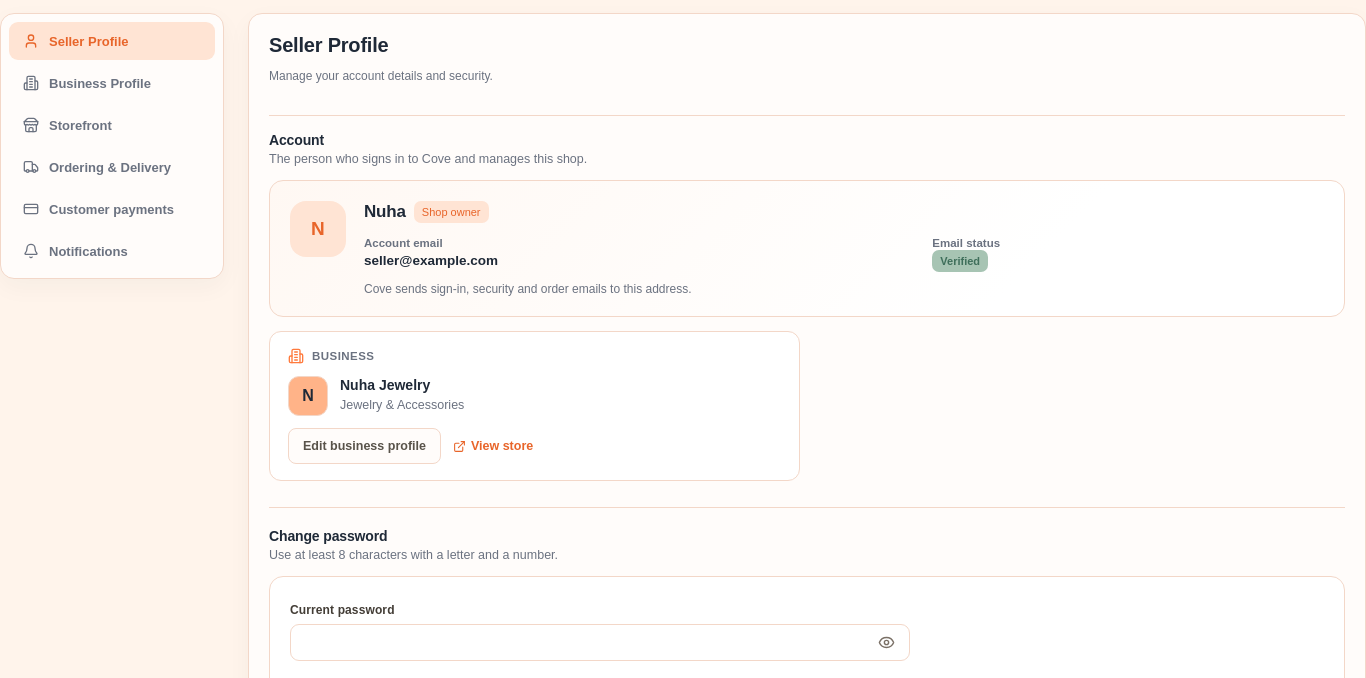
Test: Seller Profile change password › shows the server error when the current password is wrong
This screenshot has width=1366, height=678.
Type "Wrong1111" into the password field named "currentPassword".
click(600, 642); type("Wrong1111")  # box x1=290 y1=624 x2=910 y2=661
(page scrolled)
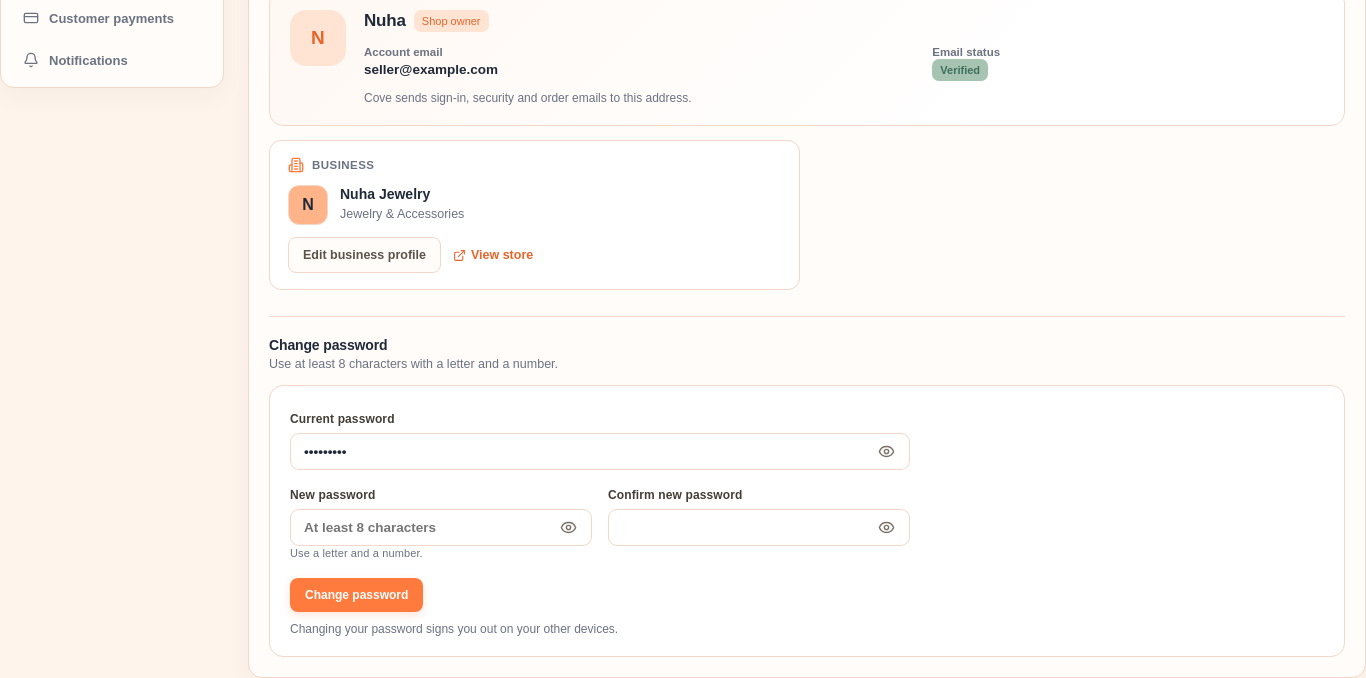
Type "NewPass22" into the password field named "newPassword".
click(441, 528); type("NewPass22")  # box x1=290 y1=509 x2=592 y2=546
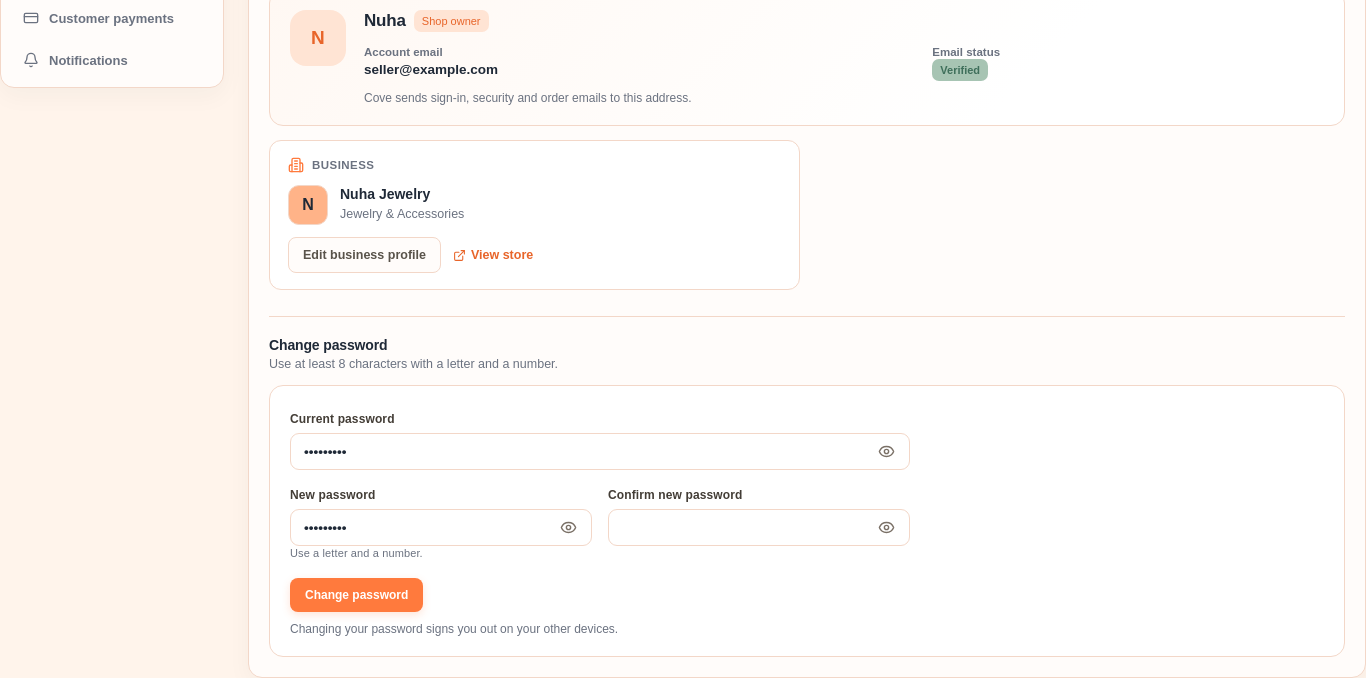
Type "NewPass22" into the password field labelled "Confirm new password".
click(759, 528); type("NewPass22")  # box x1=608 y1=509 x2=910 y2=546
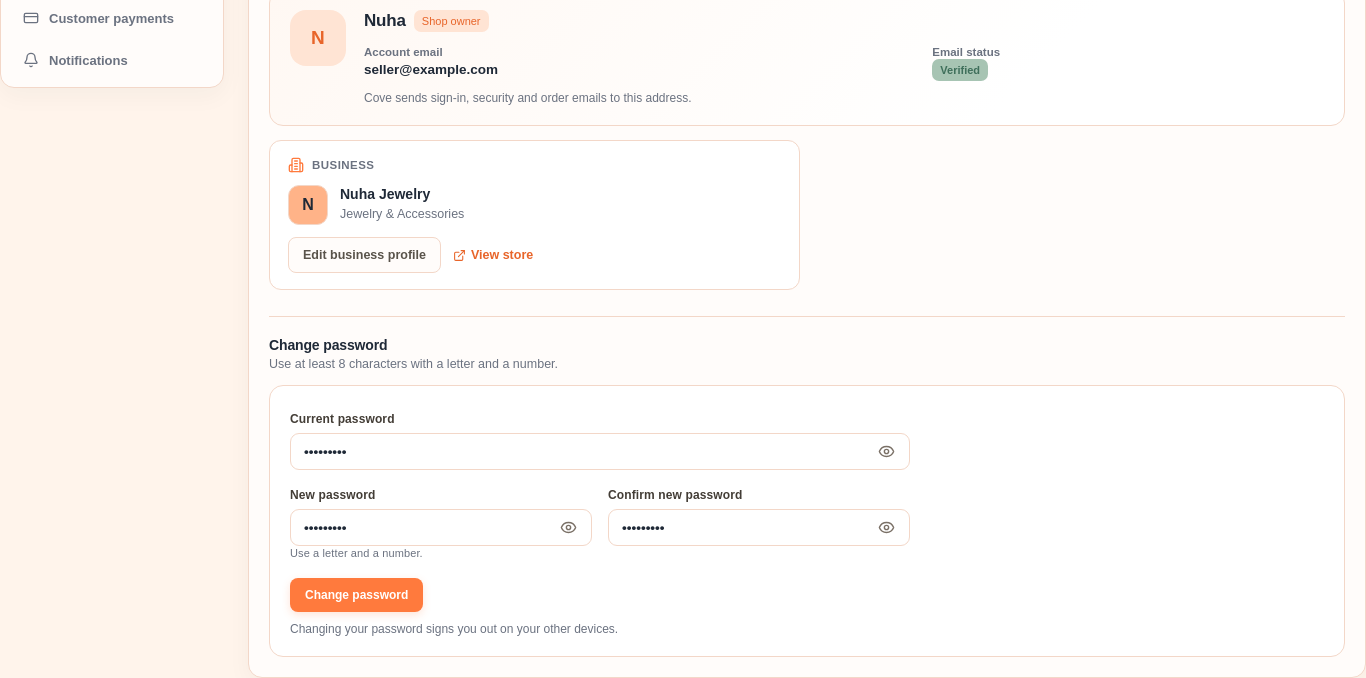
Click the button "Change password".
click(357, 595)  # box x1=290 y1=578 x2=423 y2=612
(page scrolled)
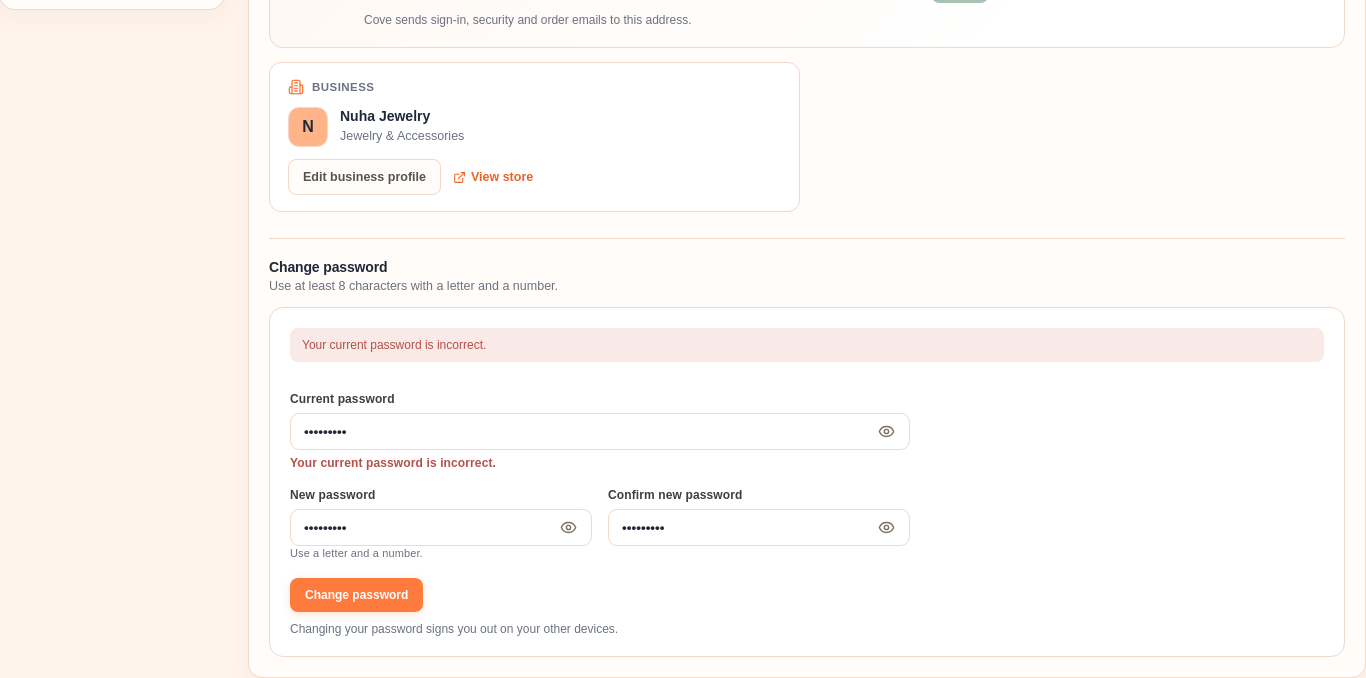
Result: the message reads "Your current password is incorrect." at x1=302 y1=338 x2=486 y2=352
